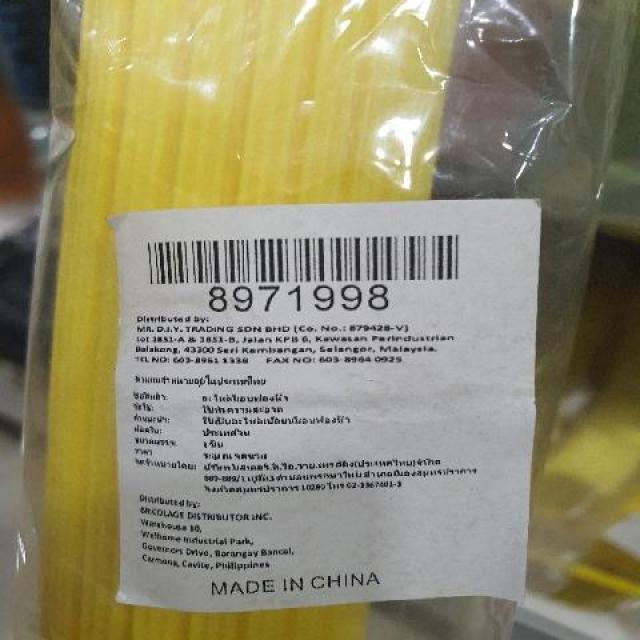Barcode: (133, 223, 480, 310)
